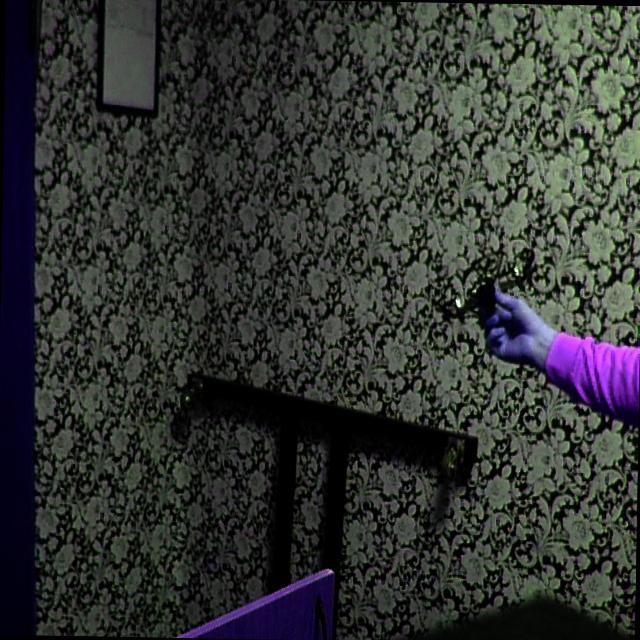drone: (422, 246, 542, 324)
